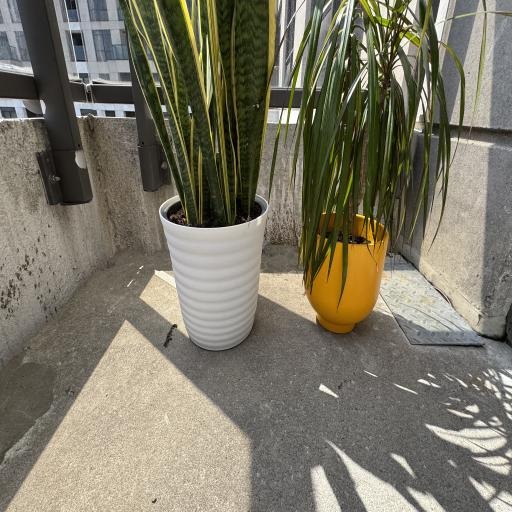Plant Pot: (158, 190, 269, 352), (301, 209, 389, 334)
